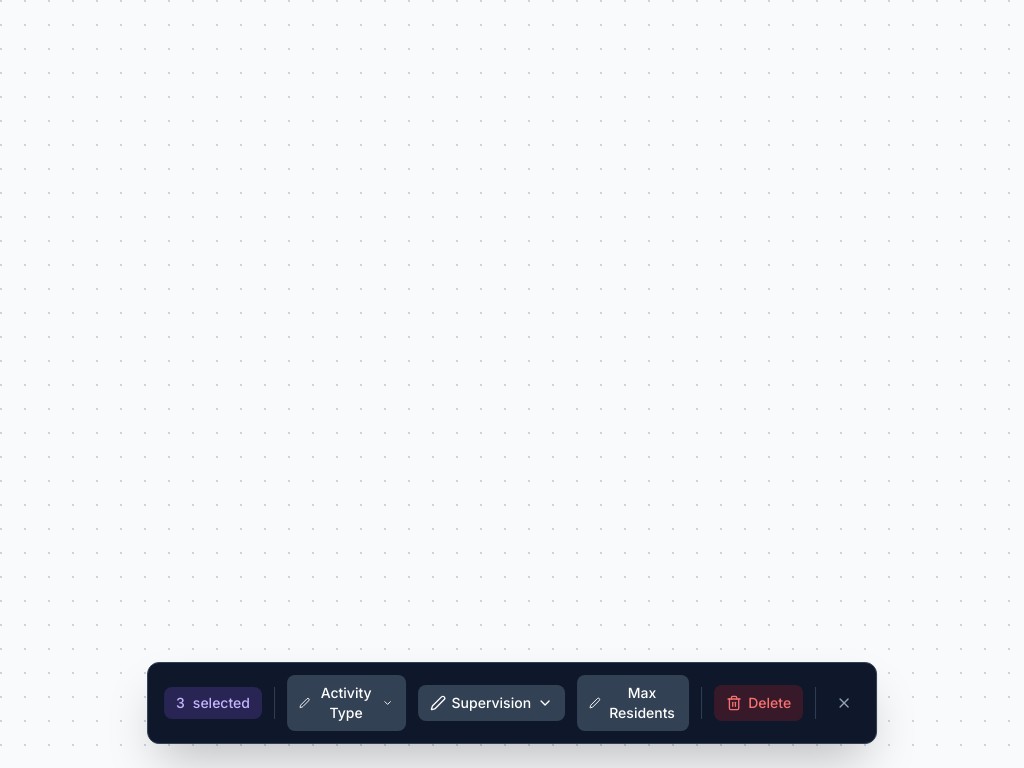
BulkActionsToolbar › Delete Action › shows confirmation modal when delete clicked
What coordinates should you click on to do the following:
click the button "Delete"
I would click on:
 (759, 703)
Its box is x1=714 y1=685 x2=803 y2=721.
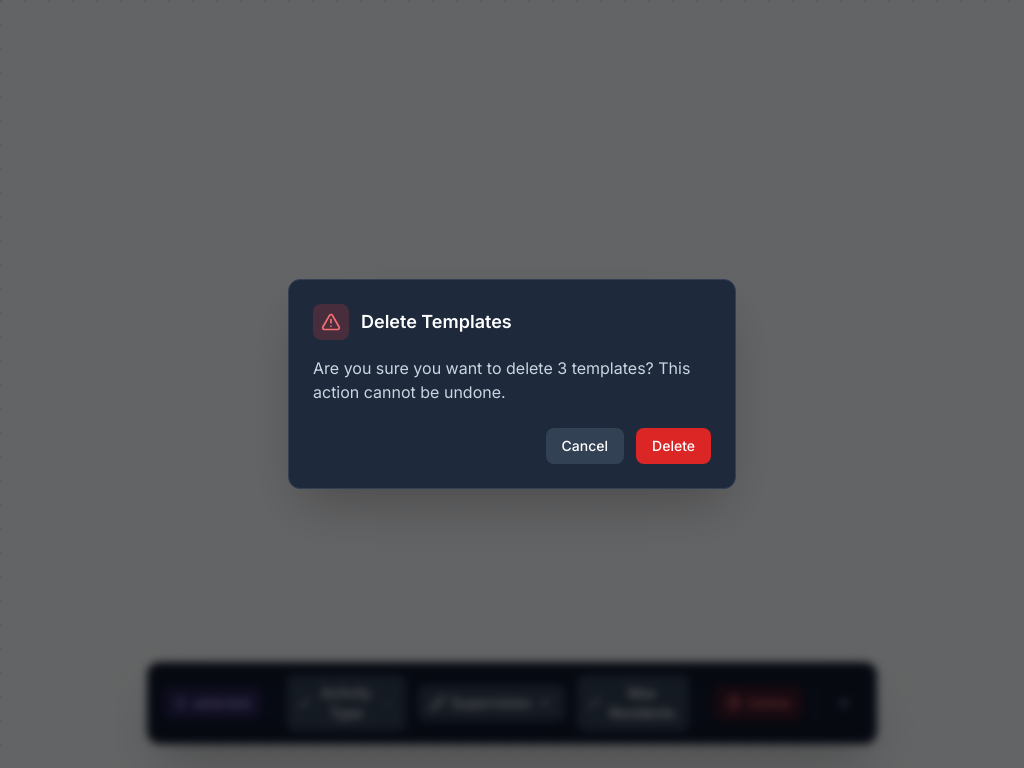
Now the heading "Delete Templates" is shown, box x1=361 y1=308 x2=512 y2=336
Now the text "Are you sure you want to delete 3 templates" is shown, box x1=313 y1=358 x2=690 y2=402
